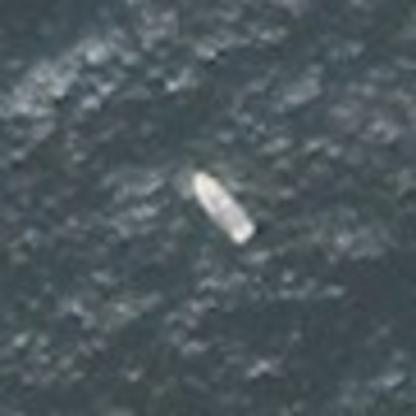ship: (183, 164, 263, 251)
